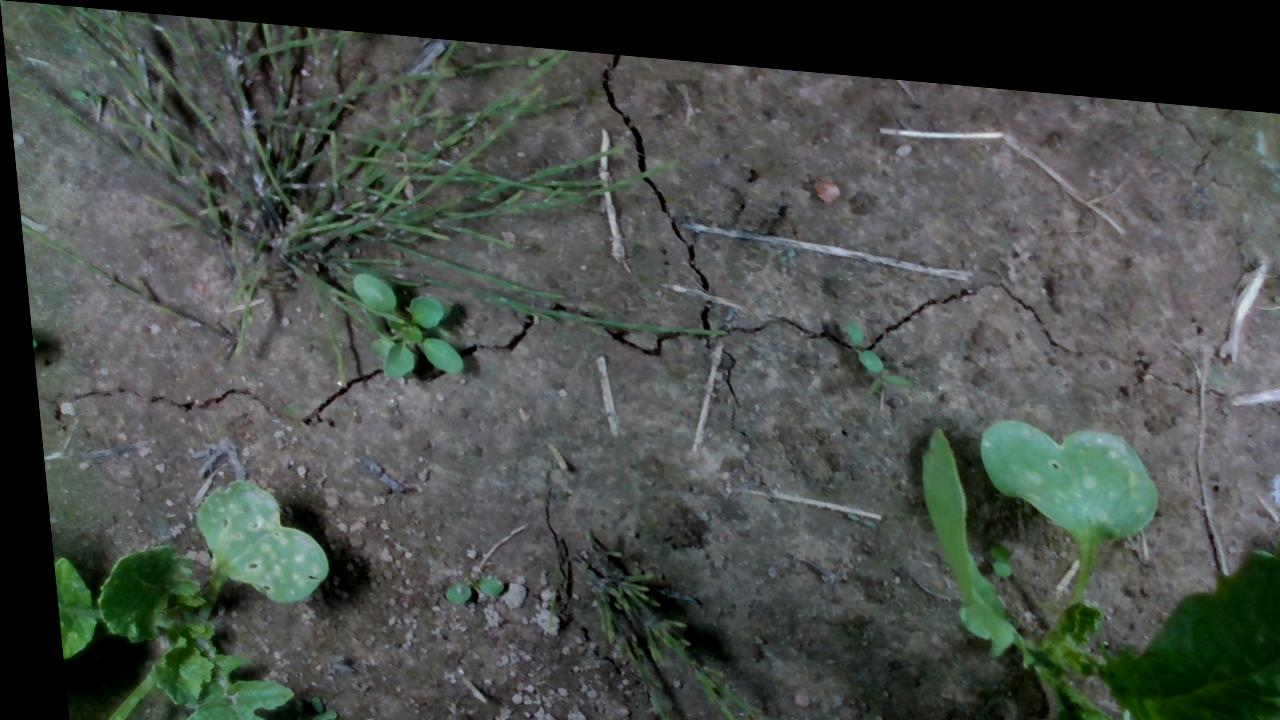weed: (429, 563, 494, 602)
